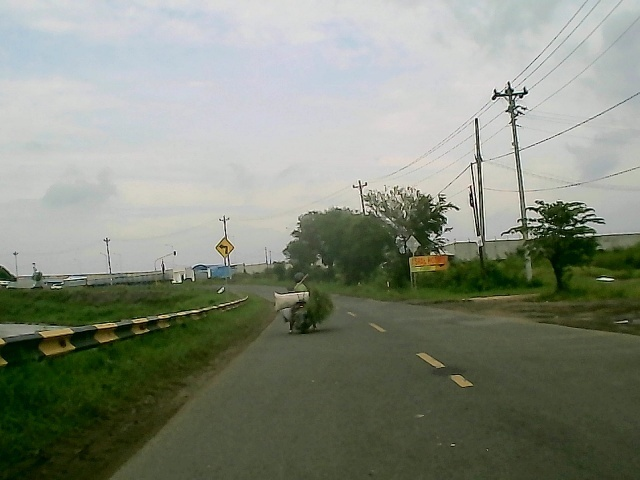Tikungan tajam ke kiri: (214, 236, 235, 262)
